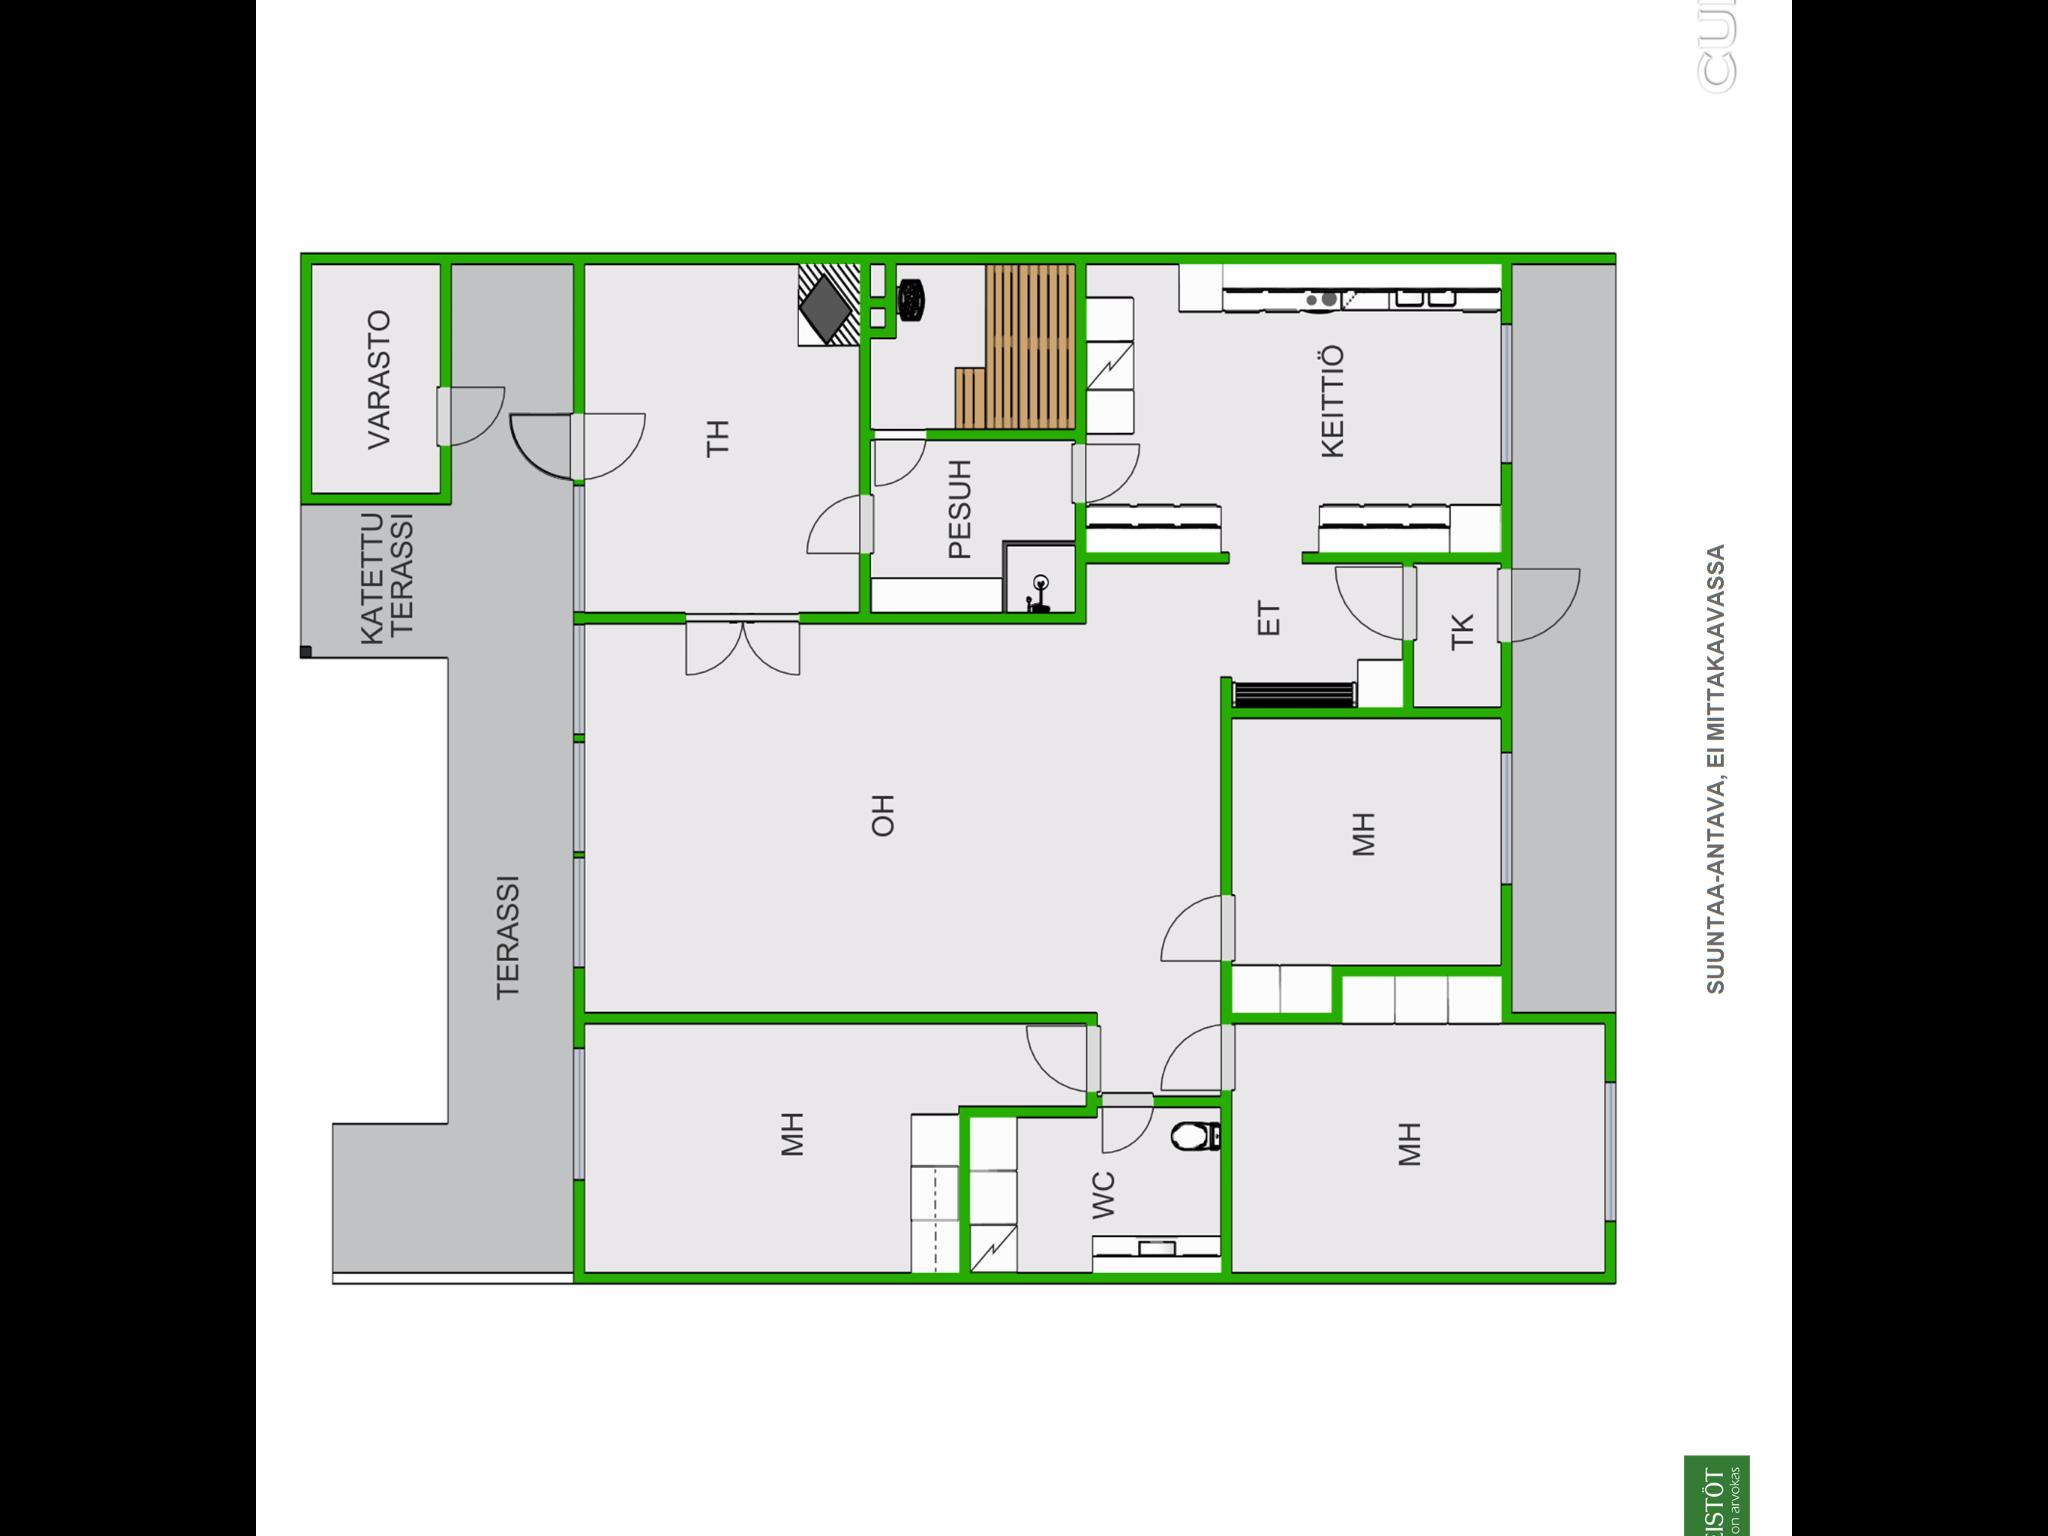bathroom: (1014, 1099, 1221, 1273)
door: (1488, 557, 1587, 647), (1324, 558, 1414, 653), (569, 399, 655, 484), (505, 405, 592, 486), (1016, 1018, 1100, 1094), (1158, 892, 1237, 971), (1156, 1025, 1235, 1099), (1071, 431, 1143, 505), (739, 607, 811, 679), (1093, 1087, 1168, 1158), (434, 378, 505, 449), (803, 490, 877, 558), (682, 602, 742, 682), (869, 416, 927, 486)
perimeter: (571, 252, 1614, 1289), (300, 258, 455, 513)
window: (1596, 1071, 1634, 1231), (1495, 305, 1524, 481), (1493, 737, 1522, 900), (566, 1034, 593, 1199), (569, 850, 598, 991), (566, 615, 595, 744), (569, 478, 592, 623), (571, 734, 595, 855)
